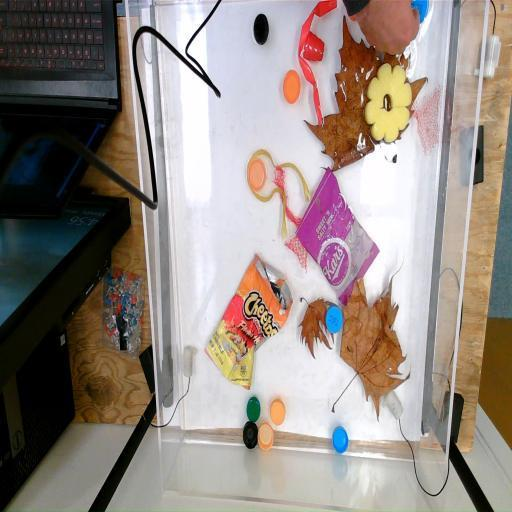Bottle Cap: (280, 68, 302, 106), (330, 422, 350, 456), (247, 160, 267, 192), (252, 14, 270, 49), (257, 418, 273, 454), (327, 302, 343, 338), (408, 0, 430, 26), (242, 420, 260, 450), (269, 398, 286, 429), (246, 394, 262, 424)
Cone Cap: (304, 30, 326, 66)
Leaf: (294, 16, 428, 178), (333, 278, 412, 422), (296, 290, 344, 358)
Netting: (272, 166, 320, 272), (412, 86, 446, 158)
Plastic Bag: (292, 165, 380, 309), (206, 252, 294, 394)
Plastic Strand: (242, 144, 314, 241), (296, 0, 338, 125)
Sponge: (364, 64, 412, 140)
